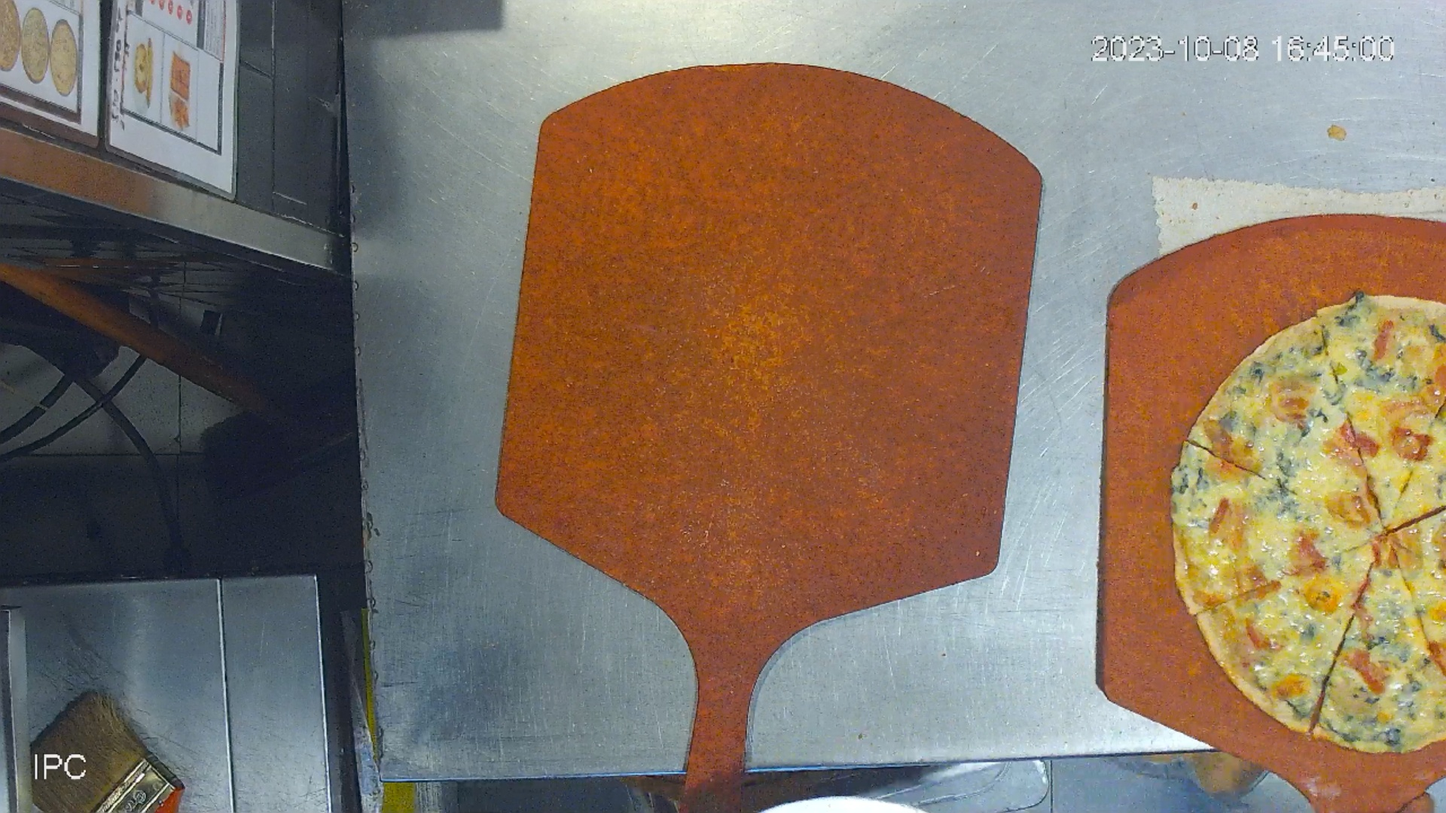bianca: (1165, 286, 1440, 759)
